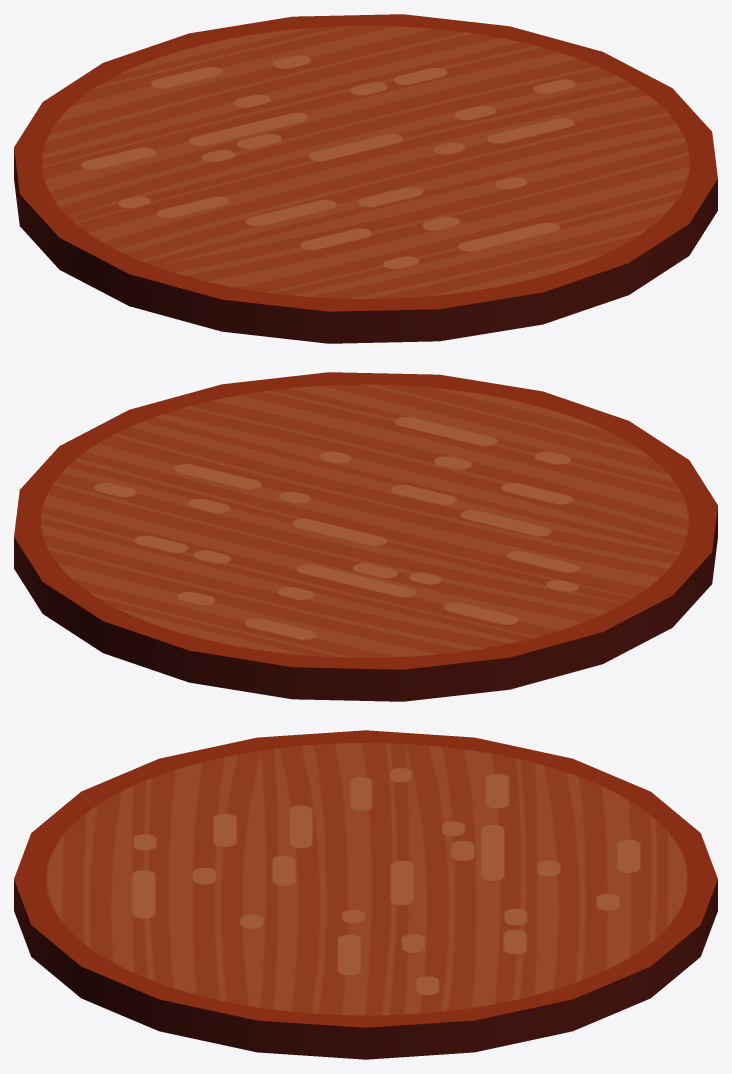
File: Roast_Slice.glb
3 renders of one model, top to bottom at view 1: azimuth 30°, elevation 25°; view 2: azimuth 150°, elevation 25°; view 3: azimuth 270°, elevation 25°, orthographic.
Visible parts, largest first — view 1: Roast_Slice; view 2: Roast_Slice; view 3: Roast_Slice.
Boxes of the visible parts, x1,y1,x2,y2 form: Roast_Slice: [14, 14, 717, 343]; Roast_Slice: [14, 372, 717, 701]; Roast_Slice: [14, 730, 717, 1059].
Size of the model in its own units: 20 by 1 by 20.
1 material, 1 textured.
